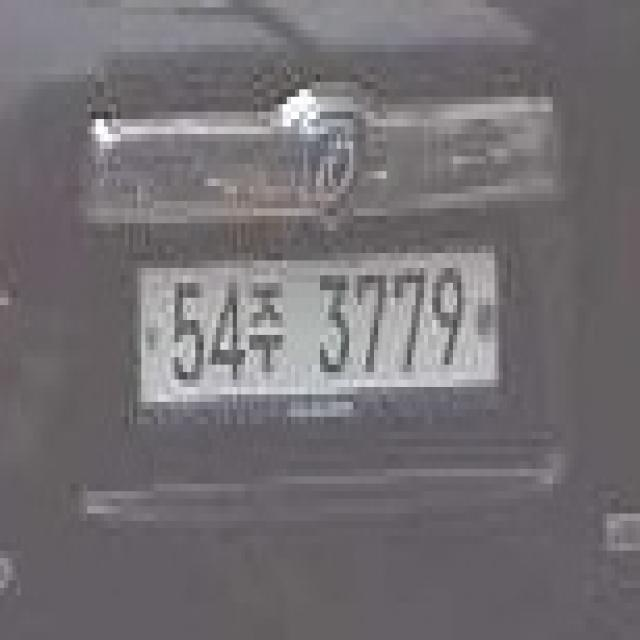3: (303, 260, 349, 394)
4: (208, 260, 249, 387)
5: (162, 260, 208, 380)
7: (354, 246, 386, 387), (391, 261, 428, 372)
9: (424, 268, 470, 365)
ju: (241, 260, 291, 364)
license_plate: (133, 246, 511, 409)
